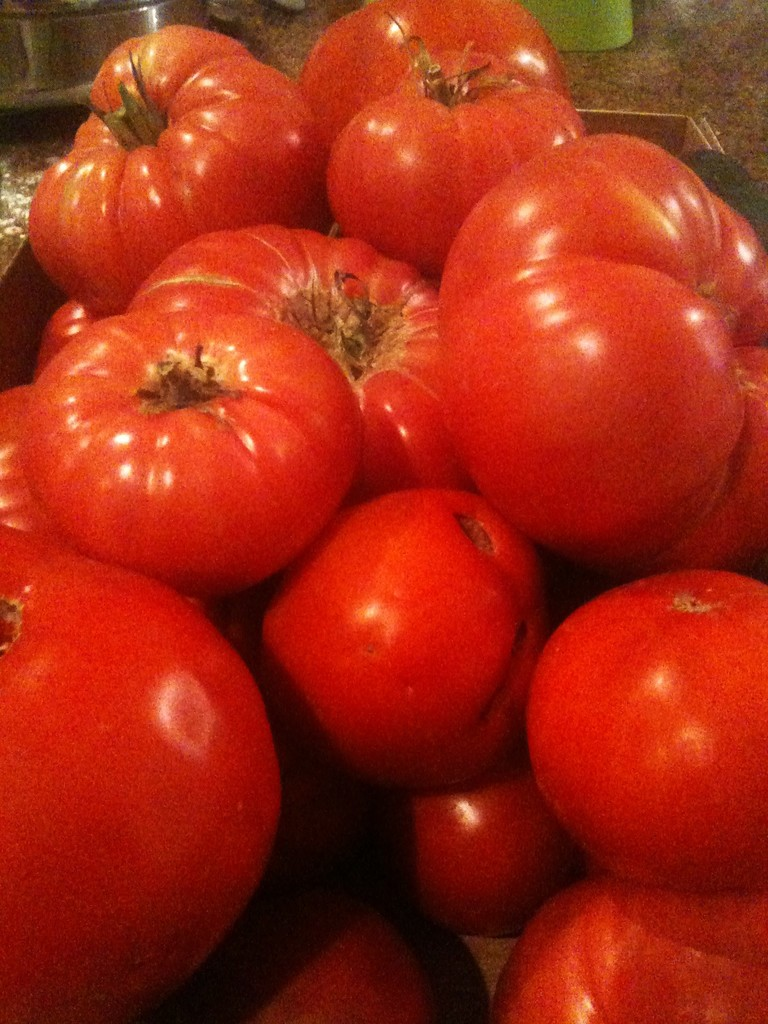Tomato: (0, 1, 768, 1024)
